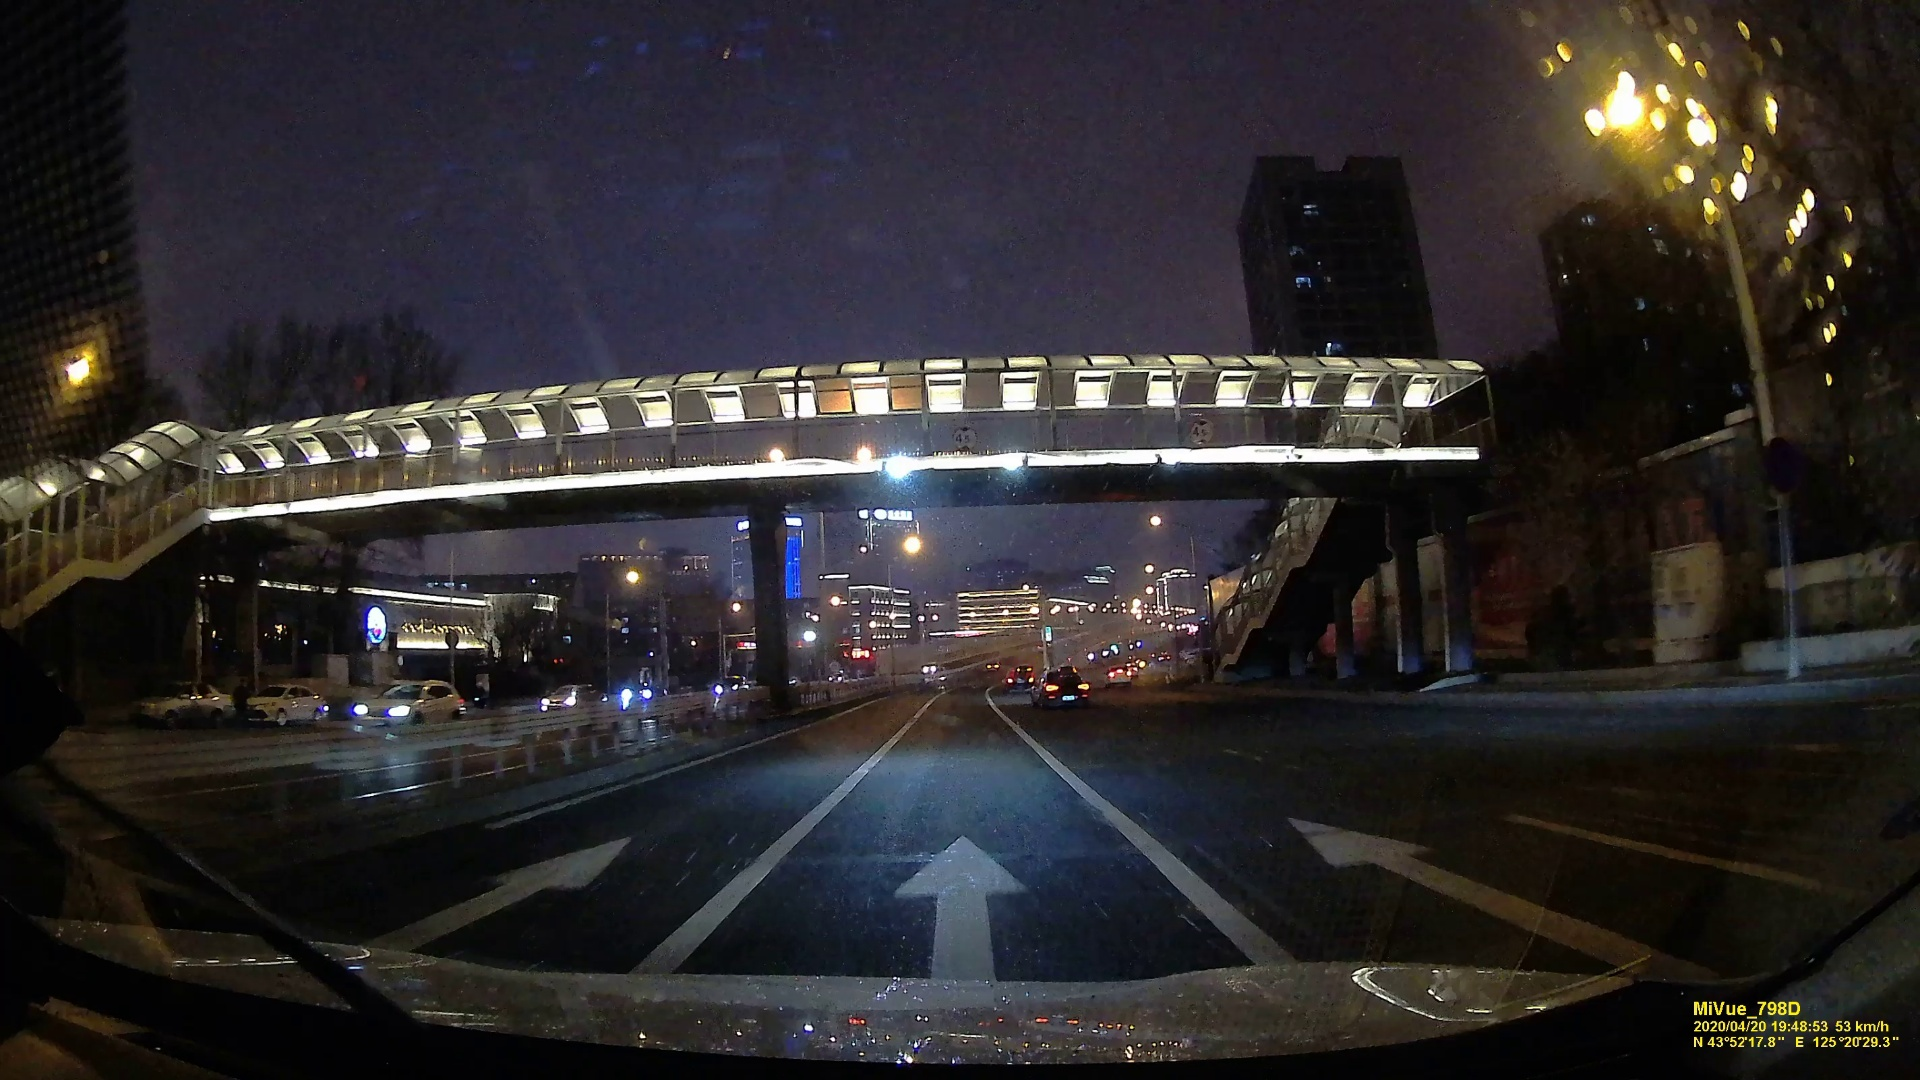vehicle: (352, 680, 464, 733), (237, 680, 322, 725), (1033, 667, 1089, 705), (542, 684, 604, 709), (1106, 665, 1133, 684)
